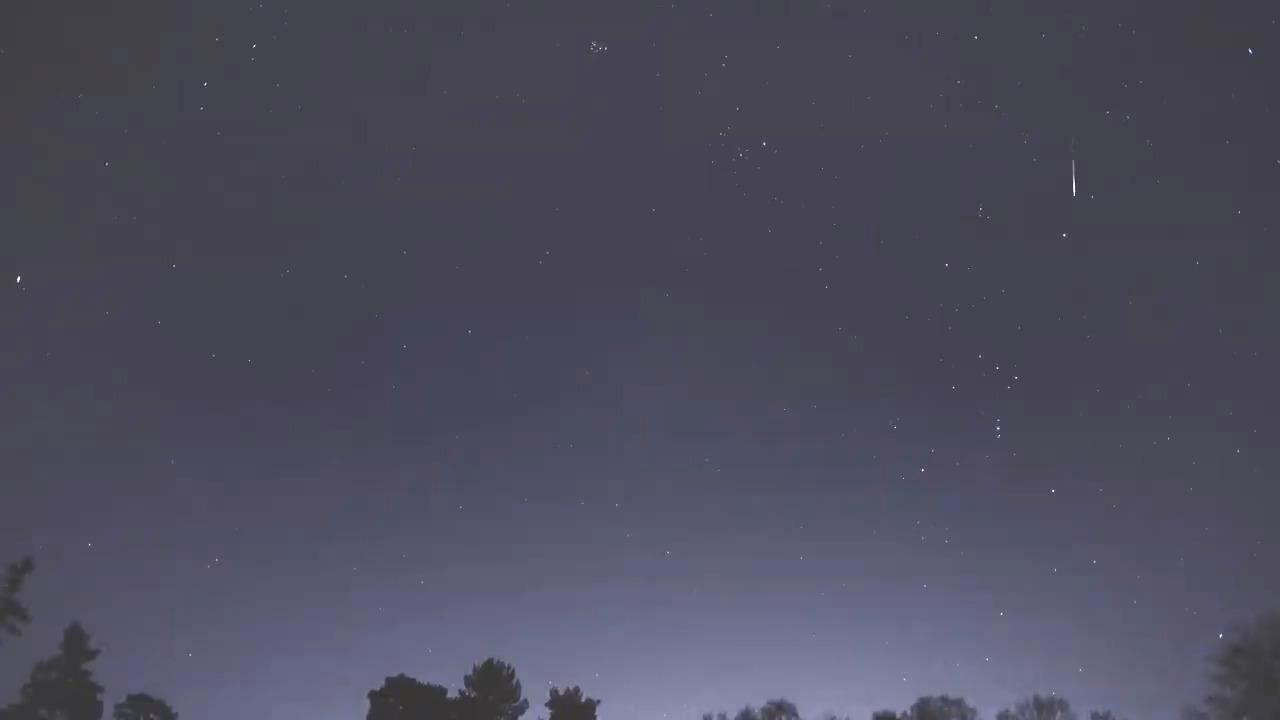meteorite: (1061, 128, 1081, 200)
